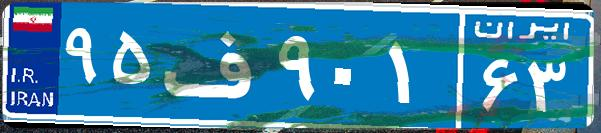0: (330, 28, 385, 110)
1: (385, 28, 445, 110)
3: (525, 38, 570, 115)
5: (110, 28, 158, 105)
6: (475, 38, 525, 113)
9: (273, 28, 330, 110), (57, 26, 110, 107)
ف: (158, 15, 273, 115)
